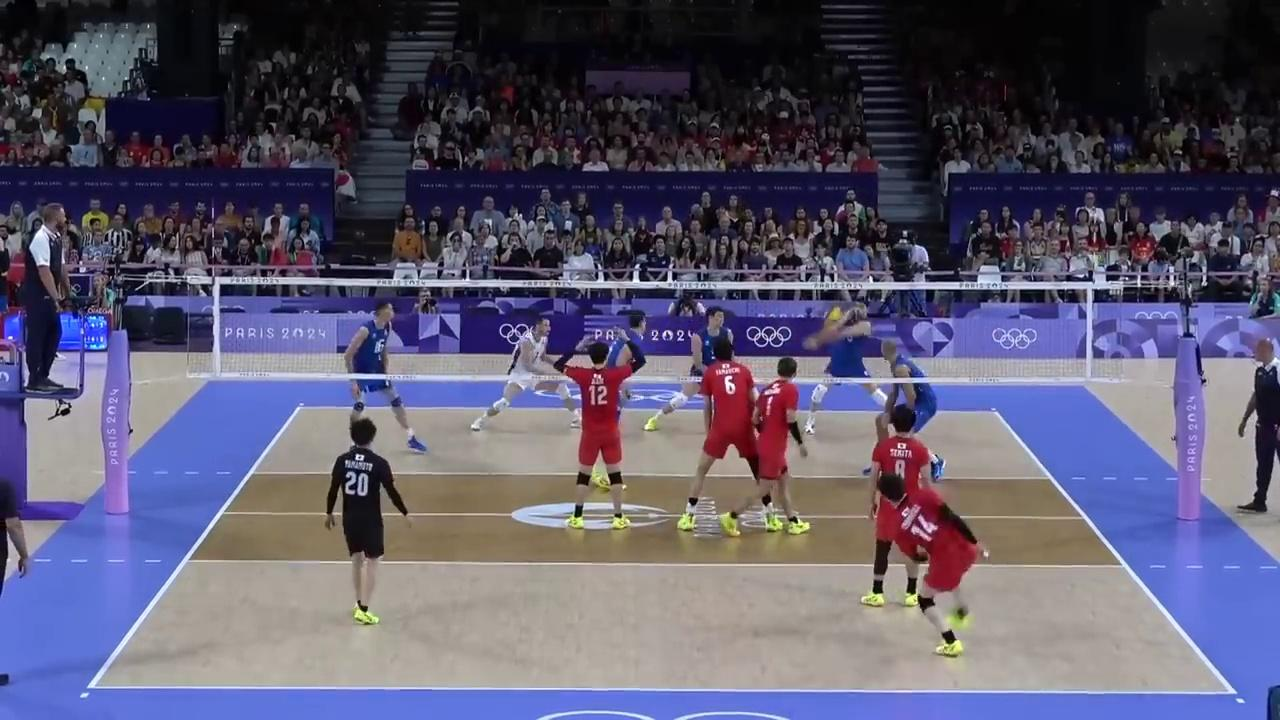ball: (827, 306, 845, 328)
